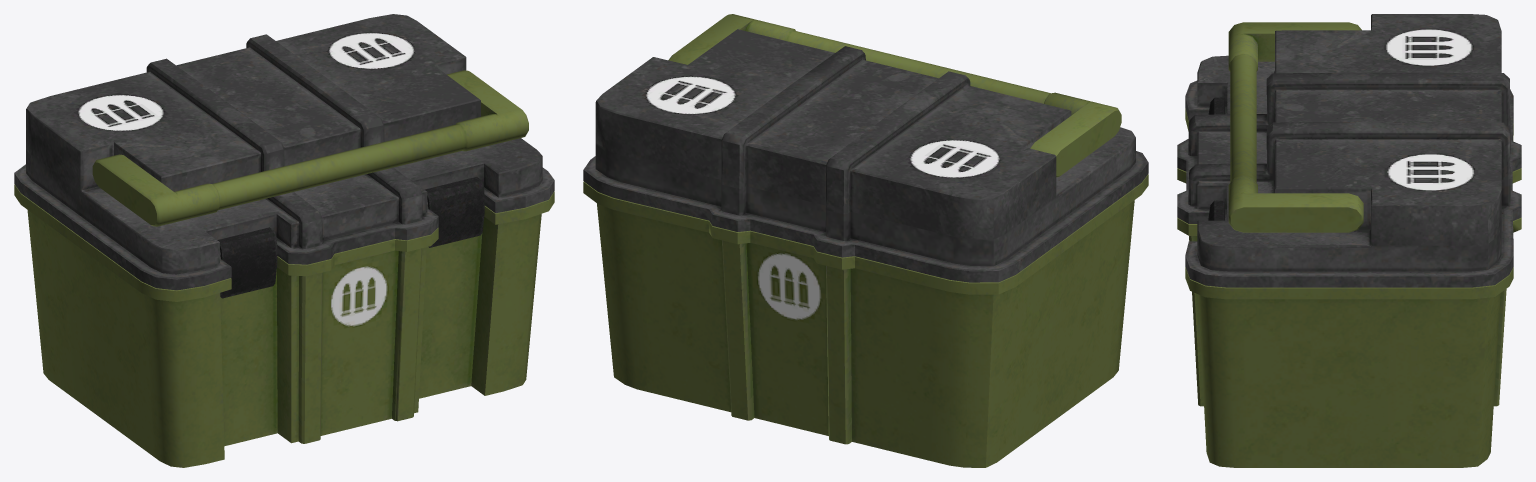
File: AMMO_BOX.FBX
The picture shows the model from 3 angles, left to right: view 1: azimuth 30°, elevation 25°; view 2: azimuth 150°, elevation 25°; view 3: azimuth 270°, elevation 25°; orthographic projection. The views are drawn at different scales.
Visible parts, largest first — view 1: PlasticToolBox003; view 2: PlasticToolBox003; view 3: PlasticToolBox003.
Boxes of the visible parts, x1,y1,x2,y2 form: PlasticToolBox003: (14,14,554,467); PlasticToolBox003: (583,14,1148,467); PlasticToolBox003: (1177,14,1521,467).
Size of the model in its own units: 7.42 by 4.75 by 5.35.
